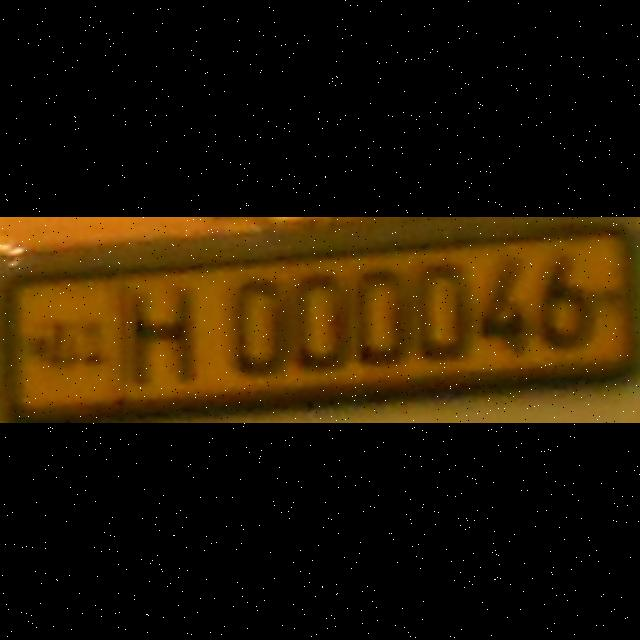0: (410, 262, 468, 351), (292, 274, 344, 362), (354, 272, 408, 354), (234, 280, 282, 368), (41, 321, 69, 364)
1: (79, 320, 109, 366)
4: (479, 260, 528, 344)
6: (538, 256, 588, 344)
H: (128, 284, 190, 382)
